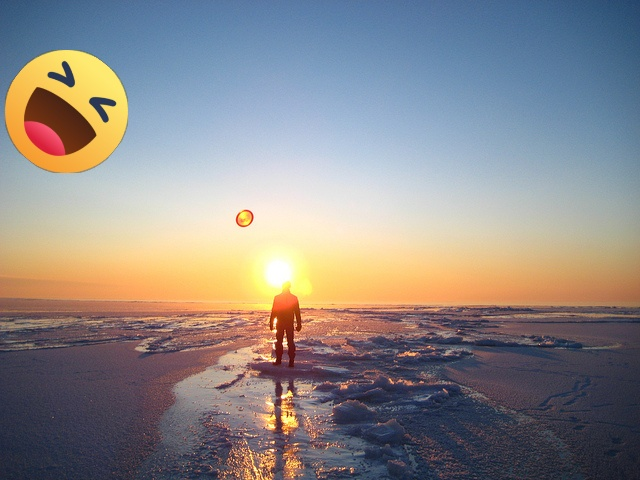haha: (5, 50, 128, 173)
